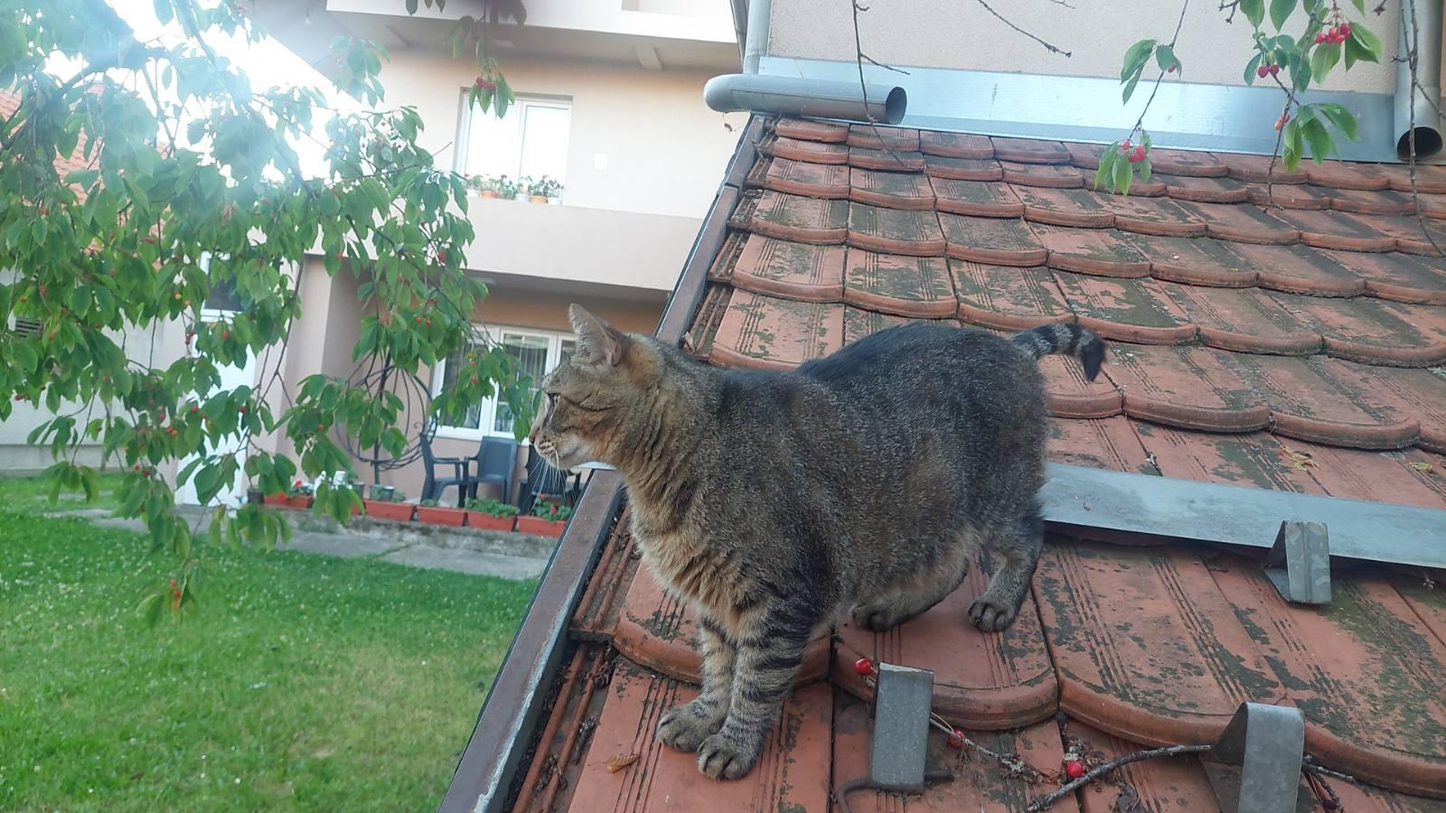macka: (533, 301, 1105, 784)
